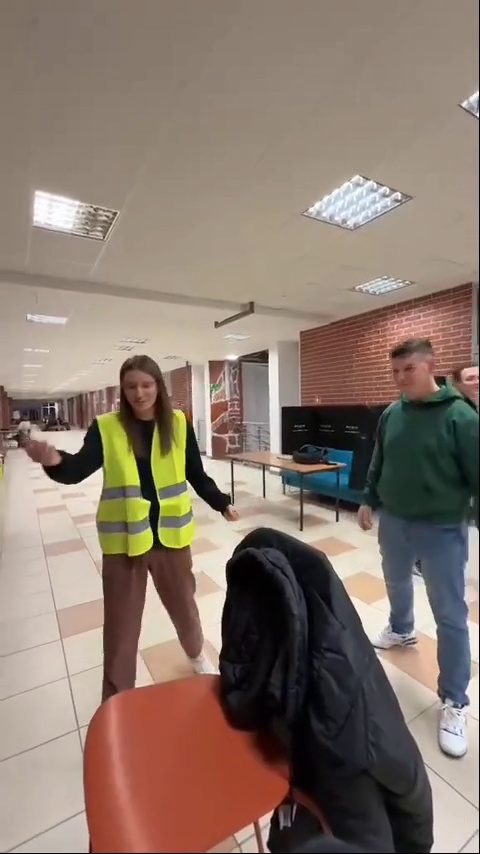no vest: (357, 337, 480, 756)
vest: (77, 352, 243, 681)
